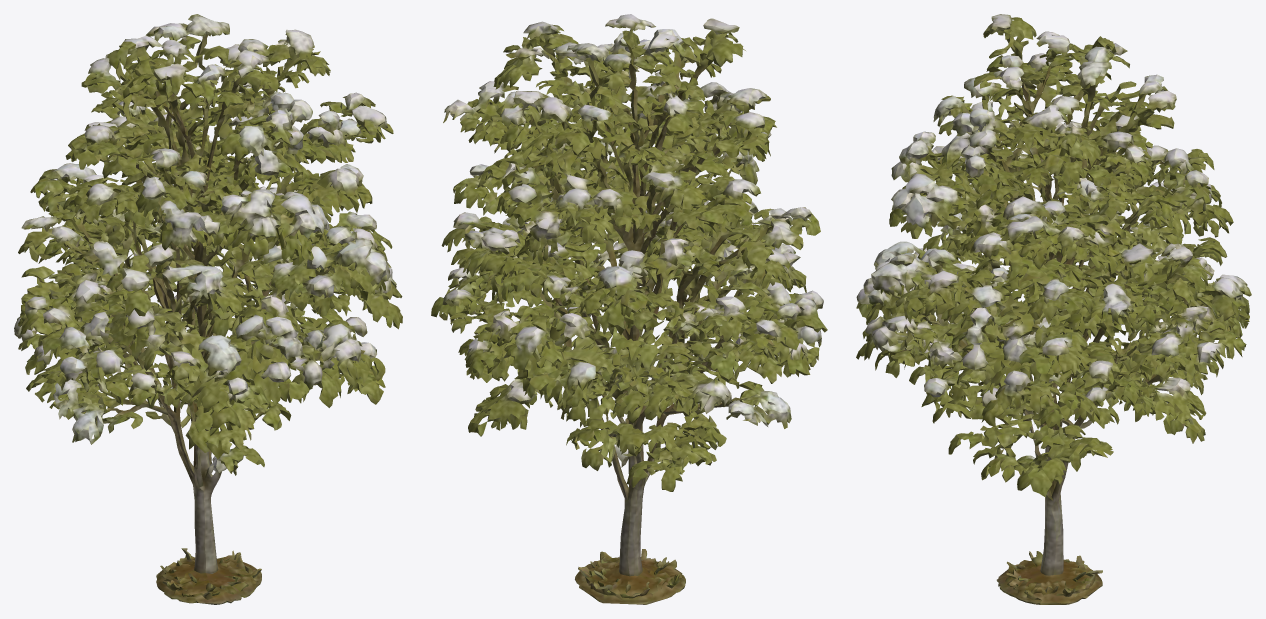
Rendered from r7-sorbus-hemsleyana.glb.
The picture shows the model from 3 angles, left to right: view 1: azimuth 30°, elevation 25°; view 2: azimuth 150°, elevation 25°; view 3: azimuth 270°, elevation 25°; orthographic projection. The views are drawn at different scales.
Visible parts, largest first — view 1: geometry_0; view 2: geometry_0; view 3: geometry_0.
Boxes of the visible parts, x1,y1,x2,y2 form: geometry_0: [14, 14, 402, 604]; geometry_0: [431, 14, 827, 604]; geometry_0: [856, 14, 1251, 604].
Bounding box in the file's own units: 4.09 × 6 × 4.03.
1 material, 1 textured.
